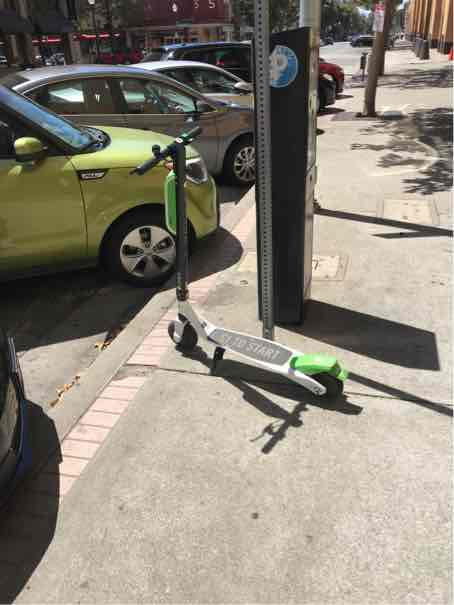scooter: (130, 107, 364, 411)
